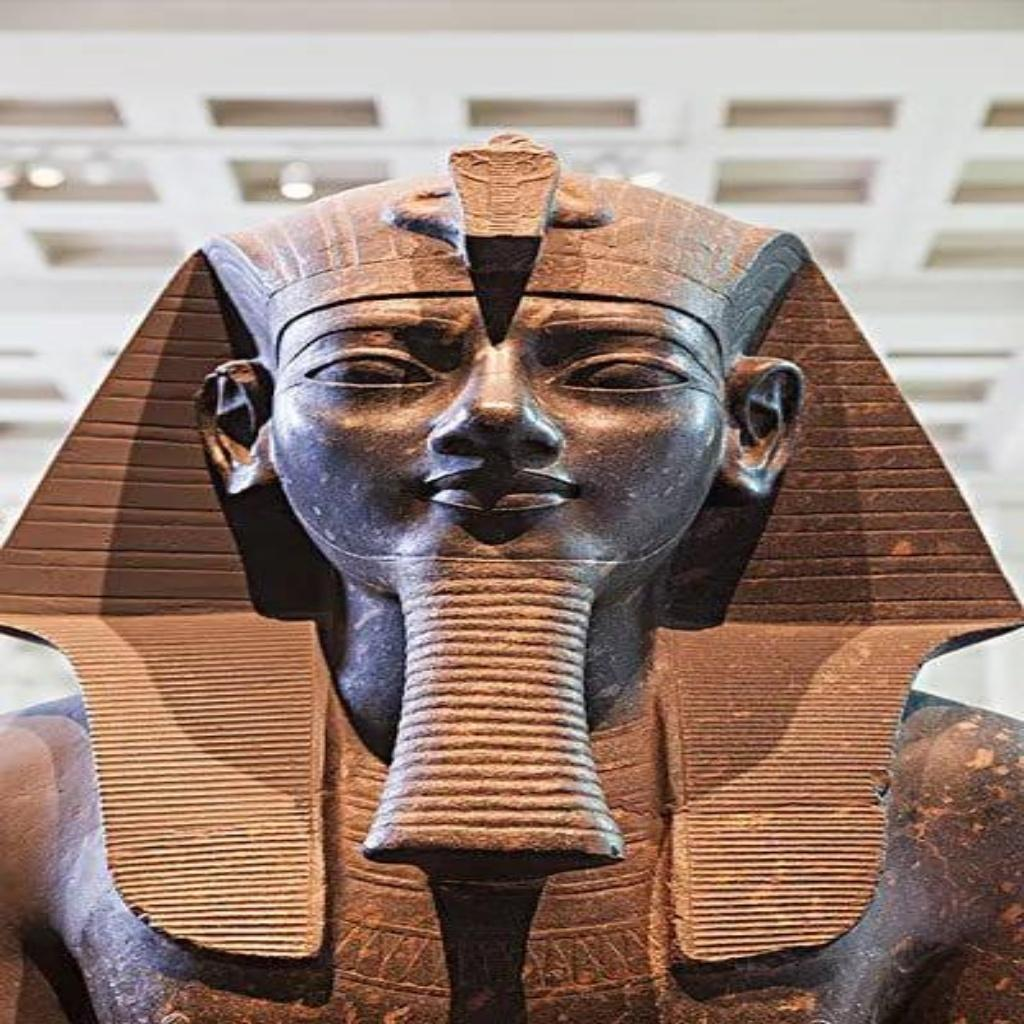Amenhotep III: (2, 133, 1018, 1019)
